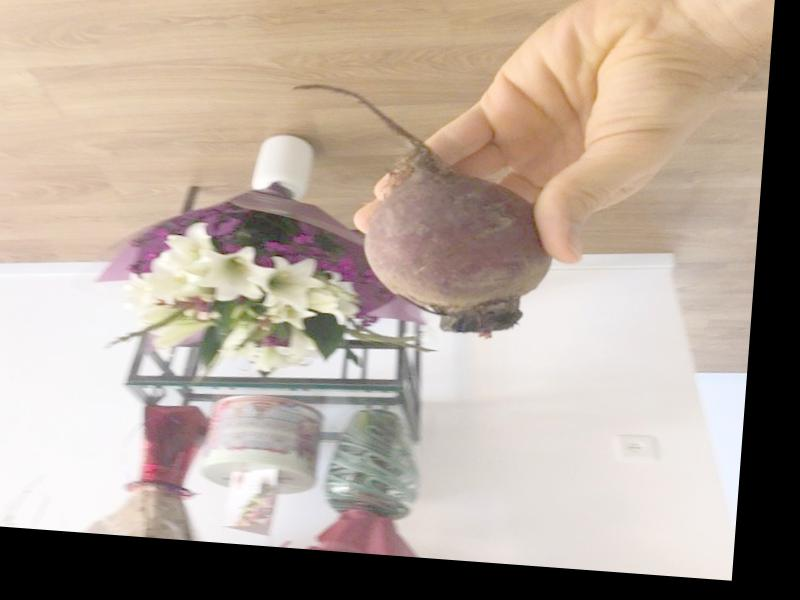Beet: (270, 82, 562, 340)
